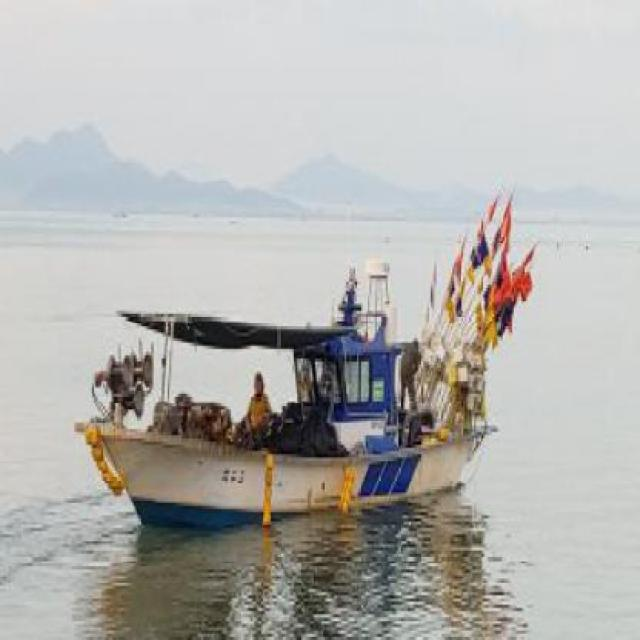fish-b: (80, 273, 520, 539)
